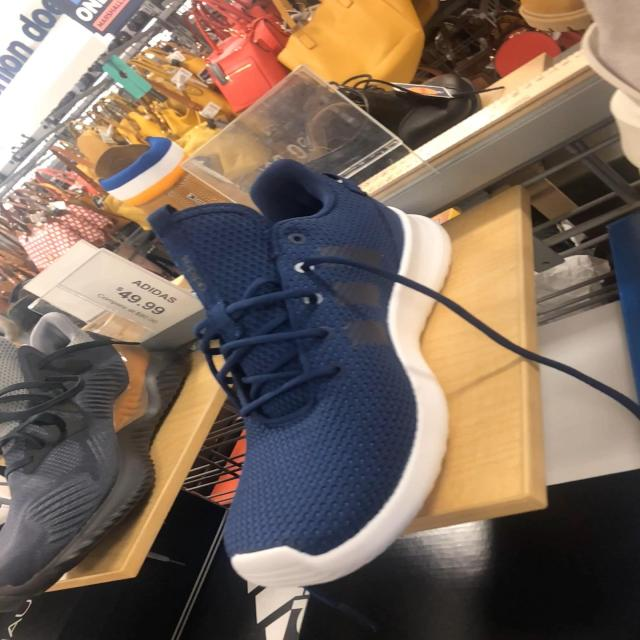shoe: (151, 160, 452, 598)
